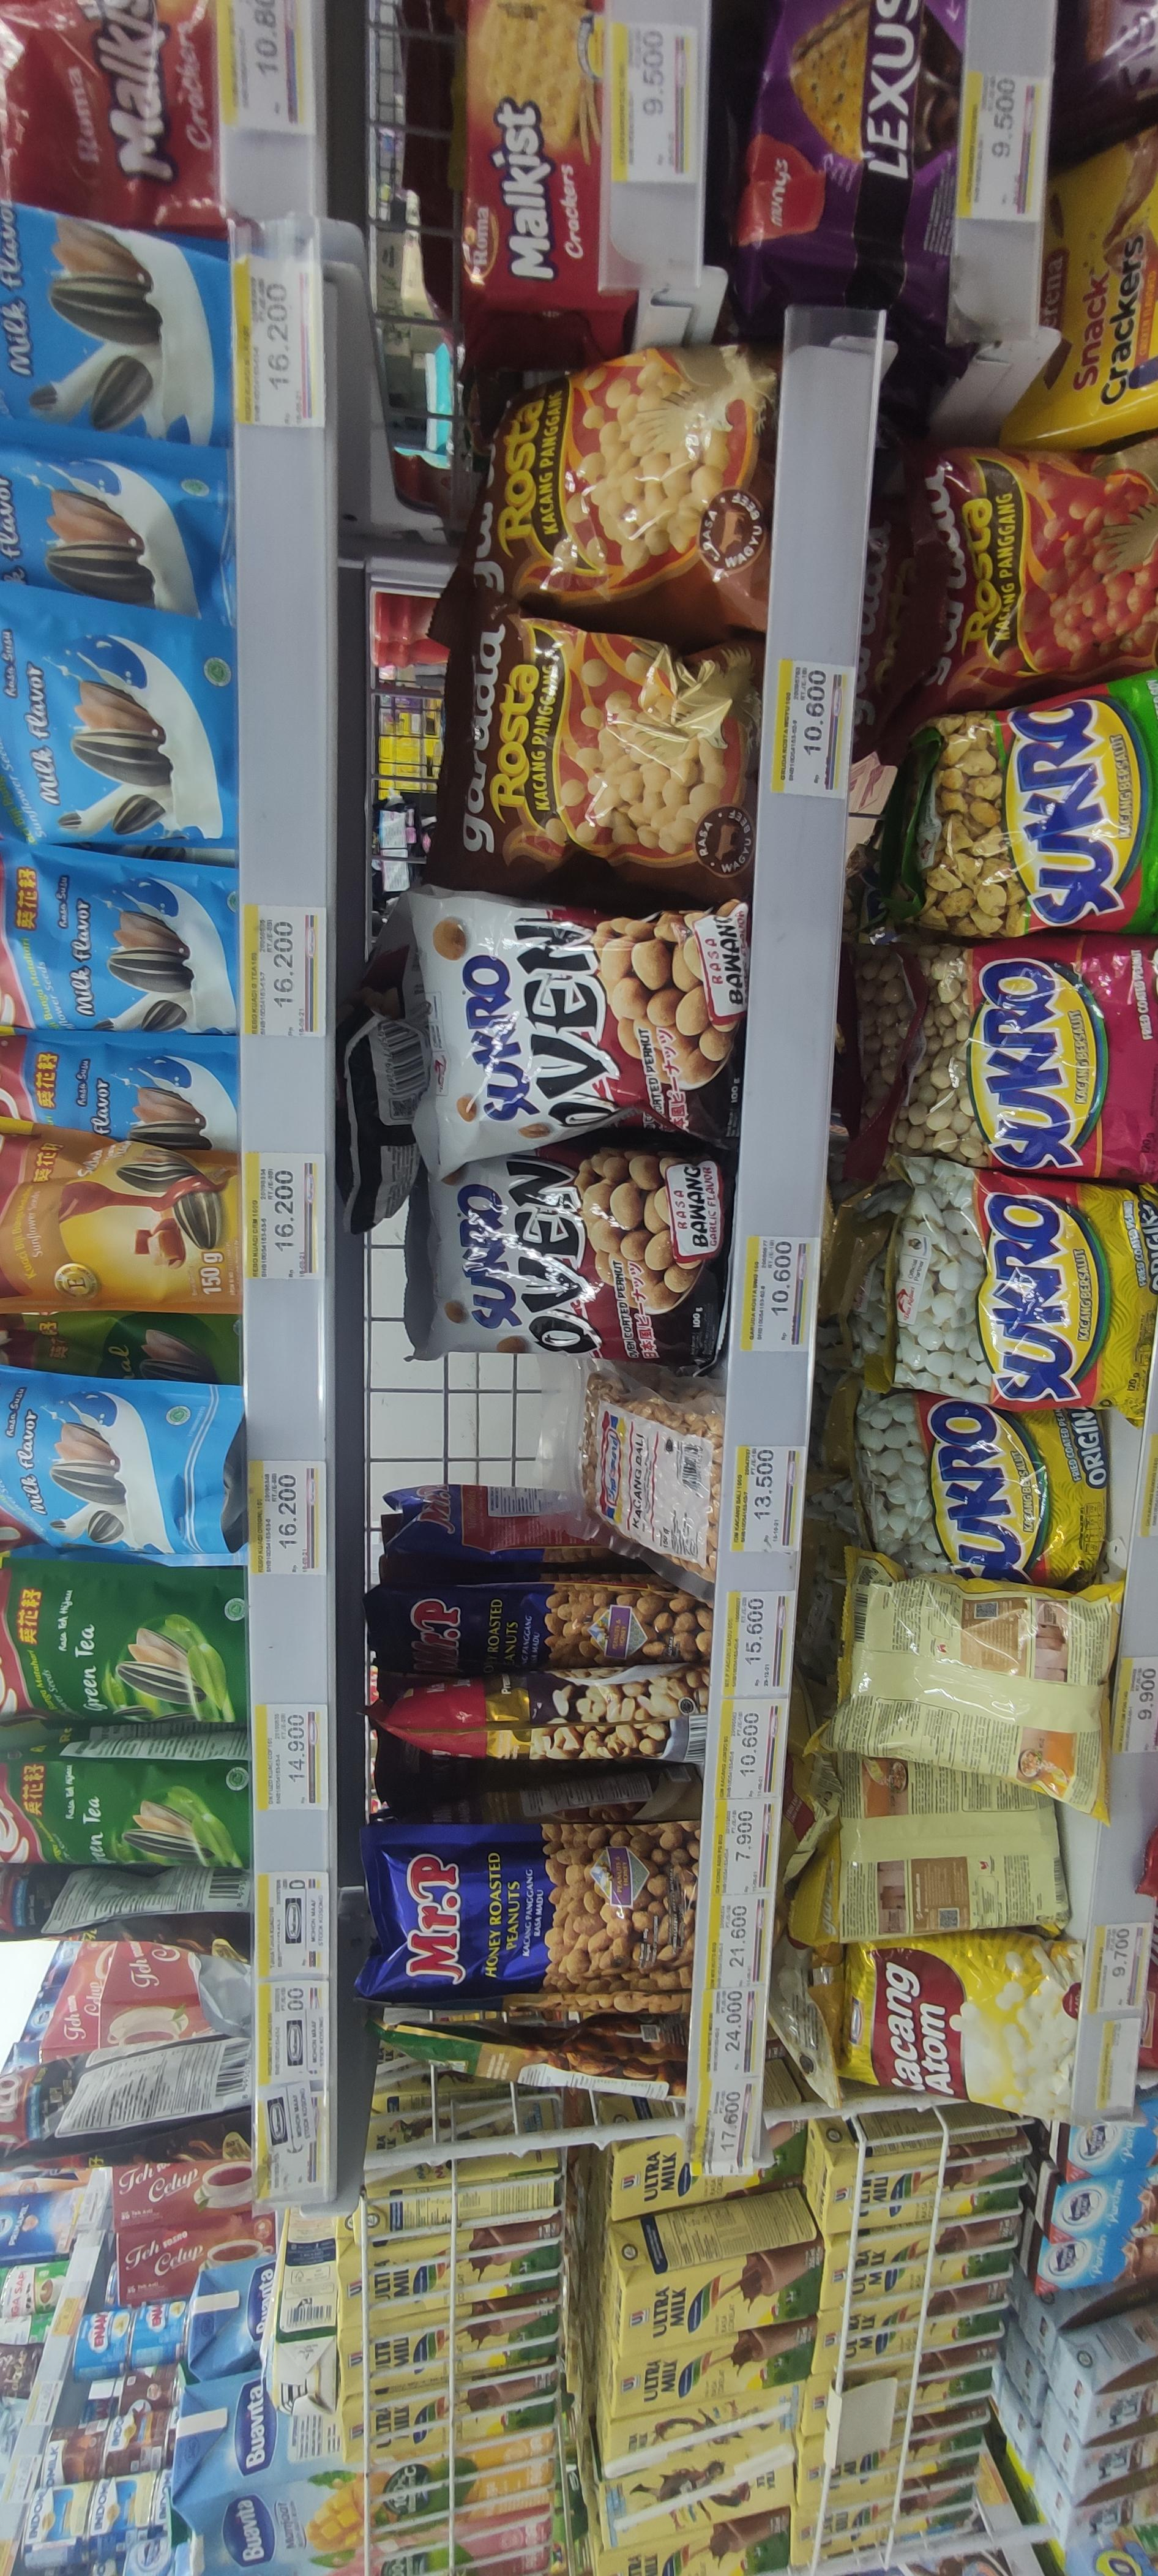90101111615100: (450, 616, 757, 892), (462, 347, 767, 623)
IndomaretKacangAtom: (848, 1935, 1104, 2142), (856, 1577, 1112, 1782), (829, 1761, 1087, 1953)
KacangSukroBBQ: (910, 945, 1158, 1171)
KacangSukroKedele: (921, 700, 1158, 930)
KacangSukroOriginal: (897, 1158, 1158, 1416), (875, 1401, 1112, 1577)
KacangSukroOvenBawang: (420, 899, 757, 1160), (396, 1155, 746, 1367)
Mr.PHoneyRoastedPeanuts: (358, 1817, 703, 2006)
